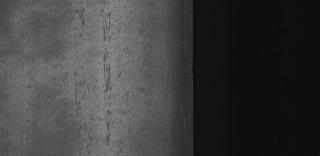silk spot: (61, 62, 120, 108), (98, 110, 134, 156), (89, 8, 121, 50)
